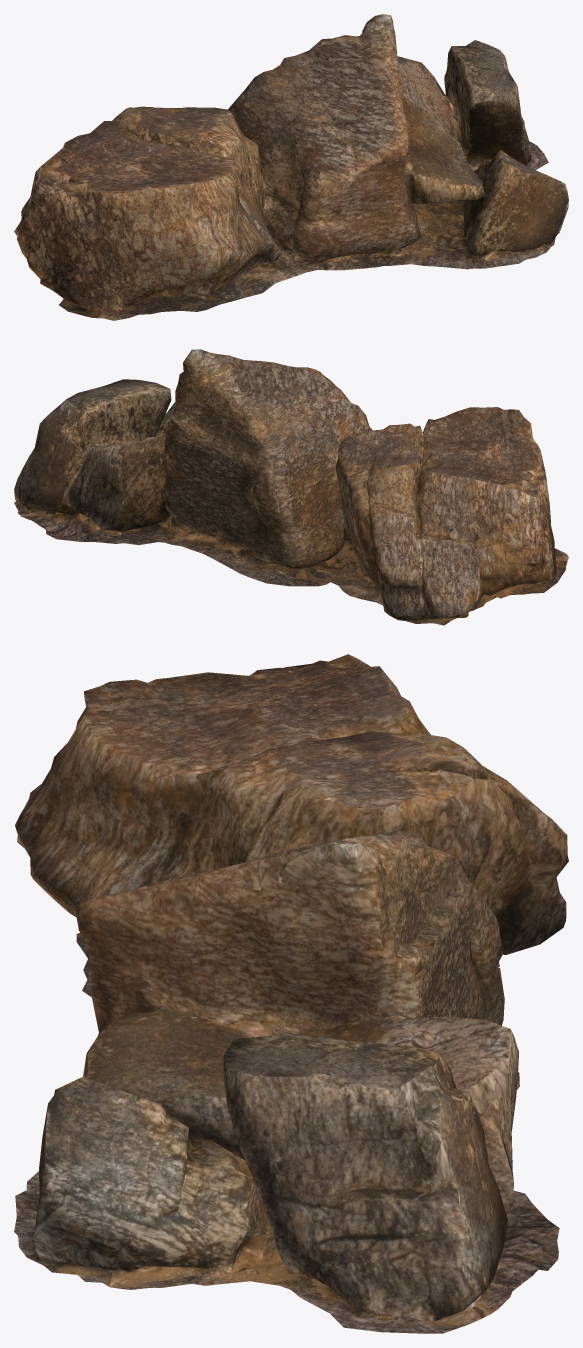
File: boulder_namaqualand.glb
3 views of the same model, one above another, from view 1: azimuth 30°, elevation 25°; view 2: azimuth 150°, elevation 25°; view 3: azimuth 270°, elevation 25° (orthographic). The views are drawn at different scales.
Parts seen in each view (by area): view 1: BoulderNamaqualand; view 2: BoulderNamaqualand; view 3: BoulderNamaqualand.
Boxes of the visible parts, x1=… form: BoulderNamaqualand: x1=14, y1=14, x2=568, y2=320; BoulderNamaqualand: x1=14, y1=349, x2=568, y2=625; BoulderNamaqualand: x1=14, y1=654, x2=568, y2=1333.
Bounding box in the file's own units: 2.52 × 0.8747 × 1.23.
Materials: 1 (1 with a texture image).
